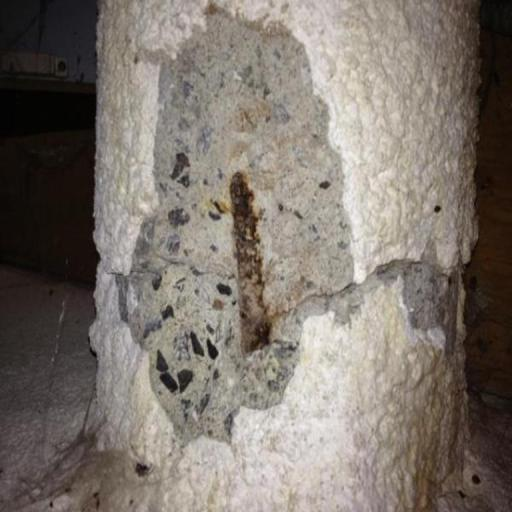spalling: (119, 13, 462, 446)
